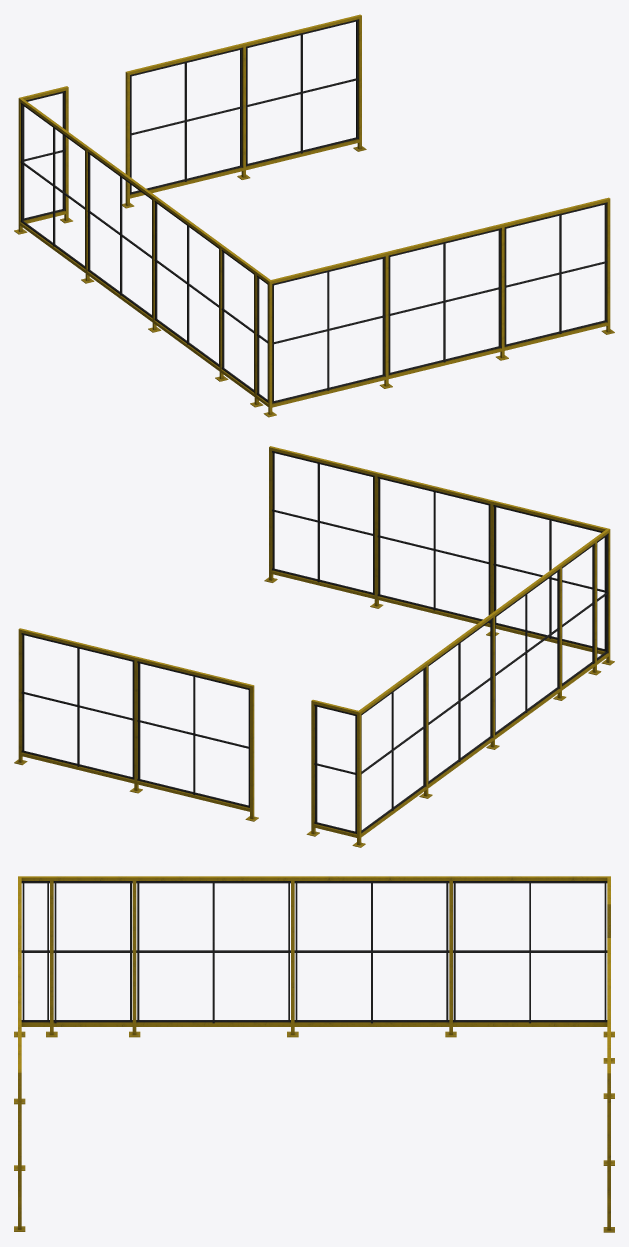
The model's file is Cage1.fbx.
The picture shows the model from 3 angles, top to bottom: view 1: azimuth 30°, elevation 25°; view 2: azimuth 150°, elevation 25°; view 3: azimuth 270°, elevation 25°; orthographic projection. The views are drawn at different scales.
Visible parts, largest first — view 1: Cage2; view 2: Cage2; view 3: Cage2.
Part boxes in pixels (box(x1,y1,x2,y2)): Cage2: box(14, 14, 614, 417); Cage2: box(14, 446, 614, 847); Cage2: box(14, 876, 614, 1232).
Size of the model in its own units: 544 by 200 by 690.
